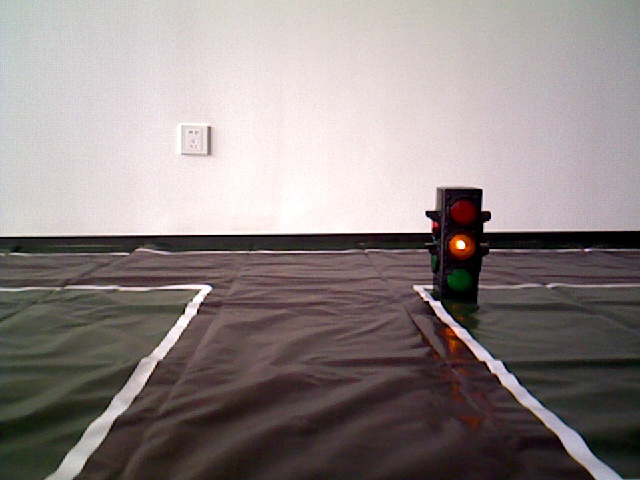yellow: (436, 188, 482, 294)
